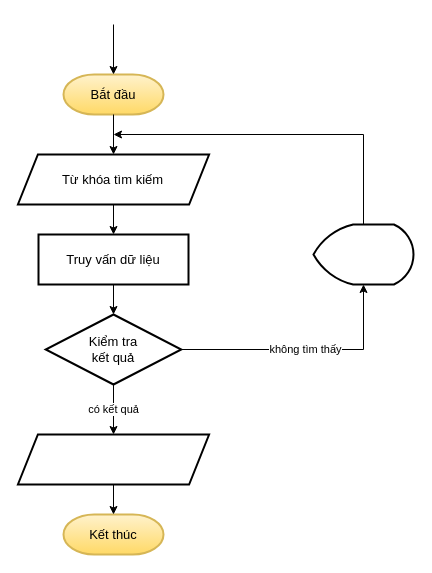
Image size: 432x573. Some labels were removed from this diagram. Each missing label, with the box of its shape:
Danh sách sản phẩm: (16, 433, 210, 485)
Thông báo lỗi: (312, 223, 414, 285)
